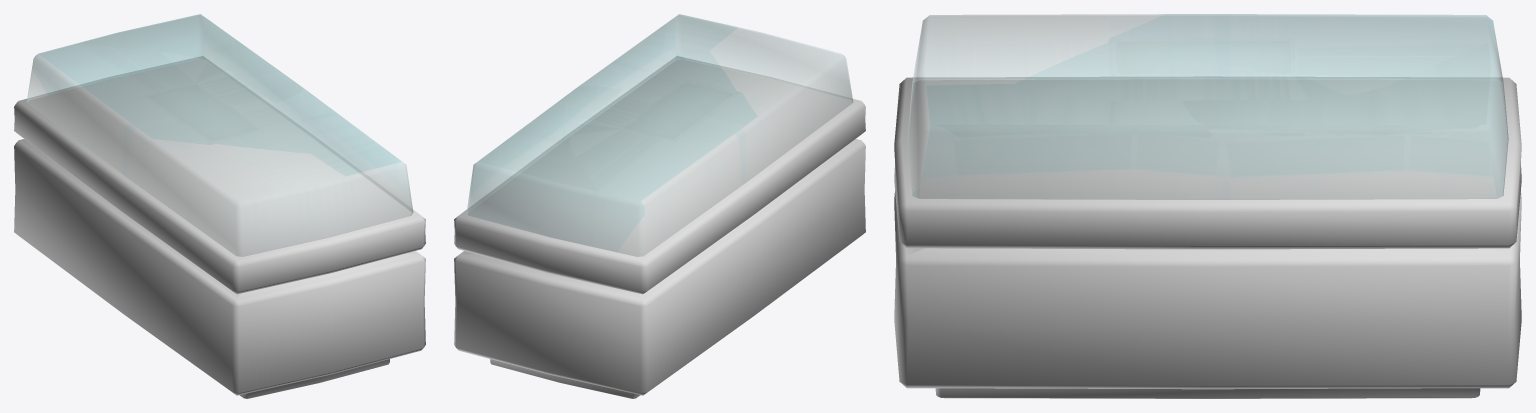
File: LP_Vitrine_exposition.fbx
3 renders of one model, left to right at view 1: azimuth 30°, elevation 25°; view 2: azimuth 150°, elevation 25°; view 3: azimuth 270°, elevation 25°, orthographic. The views are drawn at different scales.
Visible parts, largest first — view 1: Vitrine Expositiion LP.001; view 2: Vitrine Expositiion LP.001; view 3: Vitrine Expositiion LP.001.
Part boxes in pixels (x1,y1,x2,y2): Vitrine Expositiion LP.001: [14, 14, 425, 398]; Vitrine Expositiion LP.001: [454, 14, 865, 398]; Vitrine Expositiion LP.001: [894, 14, 1521, 398].
Bounding box in the file's own units: 61.03 × 60 × 122.
